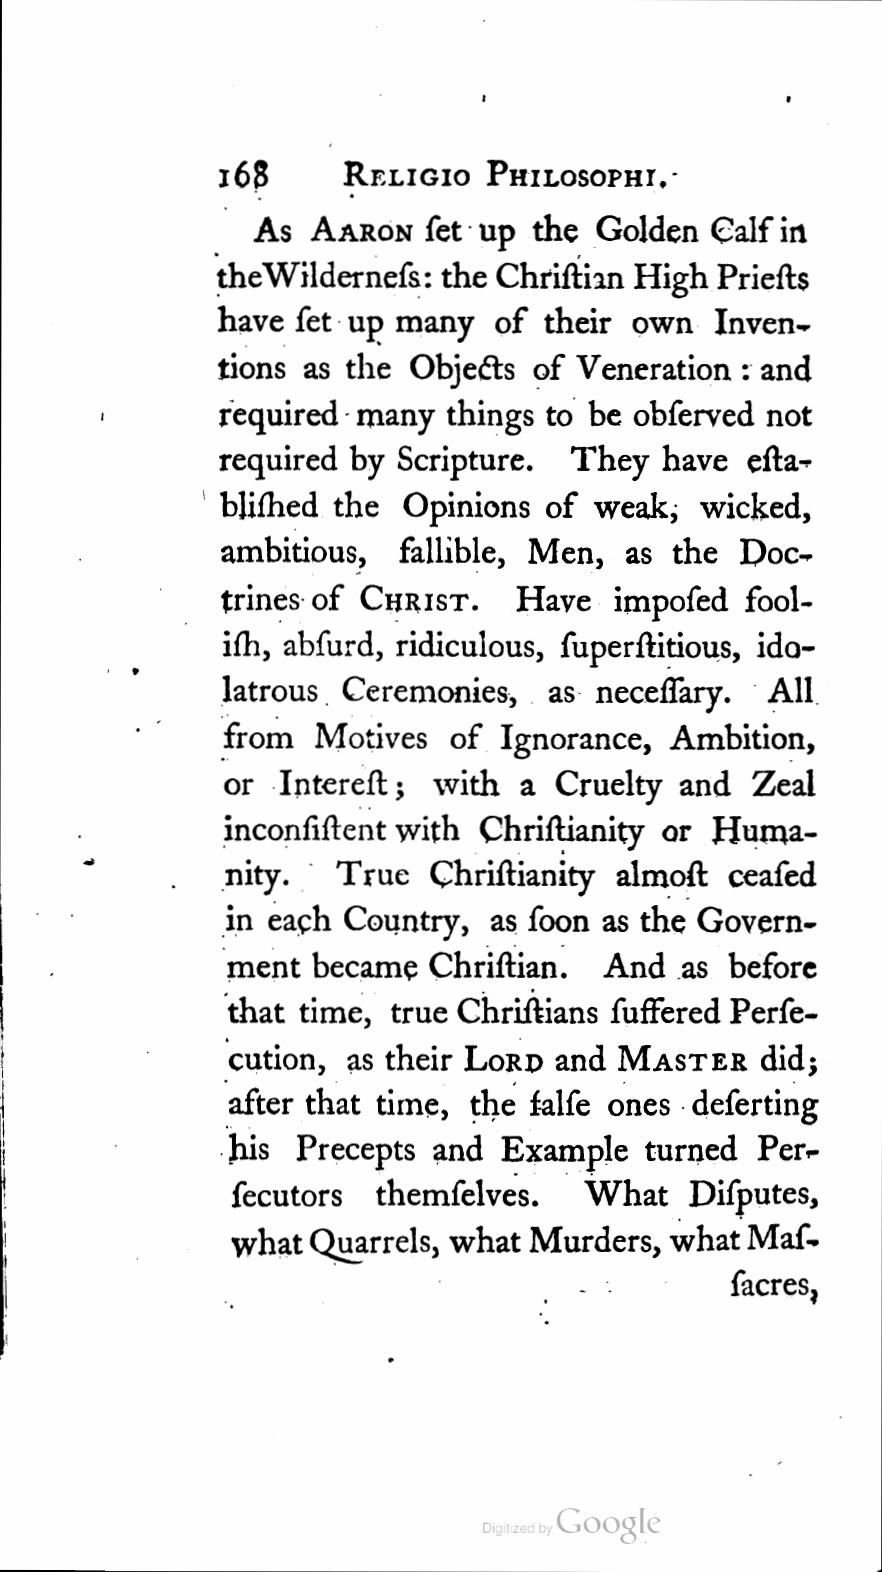catchword: (729, 1266, 822, 1305)
header: (341, 157, 670, 192)
page_num: (215, 155, 271, 192)
top_p: (213, 211, 823, 1265)
